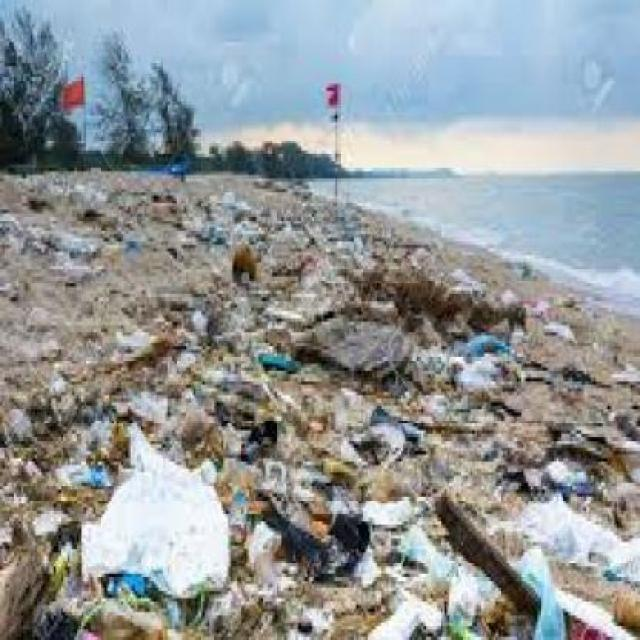garbage: (266, 241, 638, 636), (0, 186, 312, 637)
